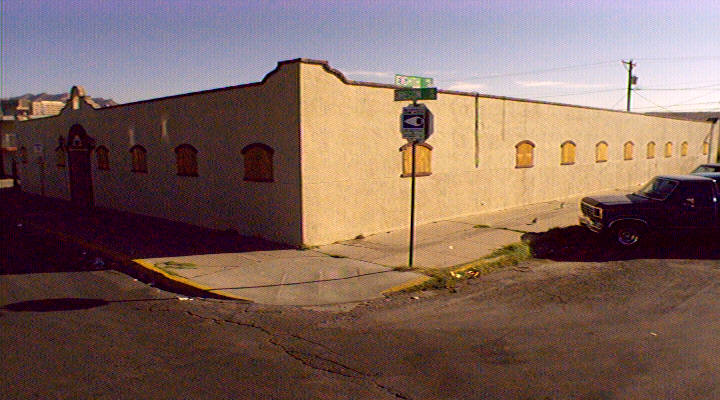Ramp: (188, 251, 433, 310)
